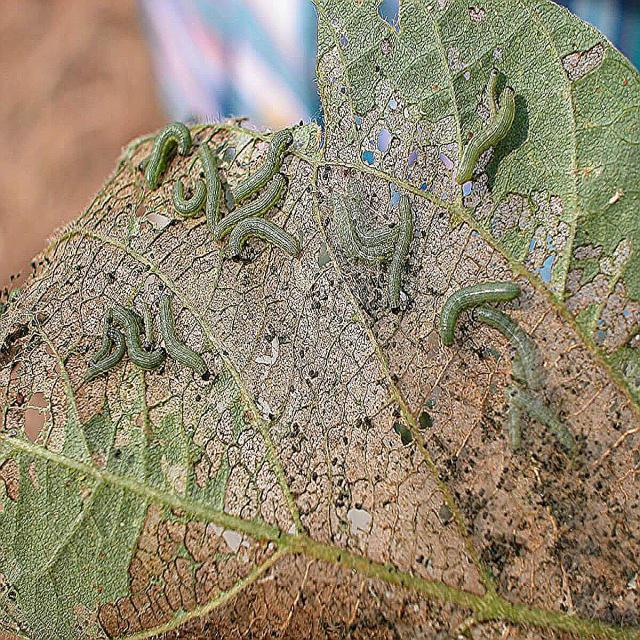Armyworm: (462, 304, 605, 386), (415, 265, 526, 350), (446, 77, 529, 182), (492, 384, 598, 464), (220, 175, 301, 258), (389, 176, 428, 338), (222, 126, 308, 196), (159, 287, 211, 395), (131, 111, 197, 191), (230, 218, 304, 288), (356, 201, 405, 301), (82, 328, 137, 388), (162, 168, 218, 226), (109, 307, 156, 370)
Armyworm_damage: (12, 358, 64, 462), (531, 220, 565, 288), (376, 1, 419, 49), (329, 23, 362, 65), (455, 168, 480, 215), (372, 128, 401, 153), (383, 98, 413, 121)
